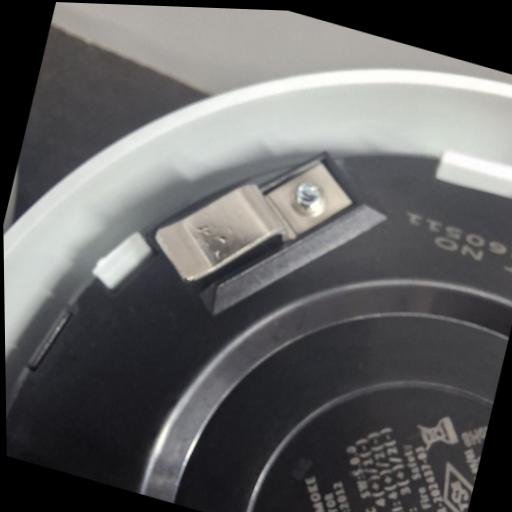yaysiz: (135, 113, 371, 338)
